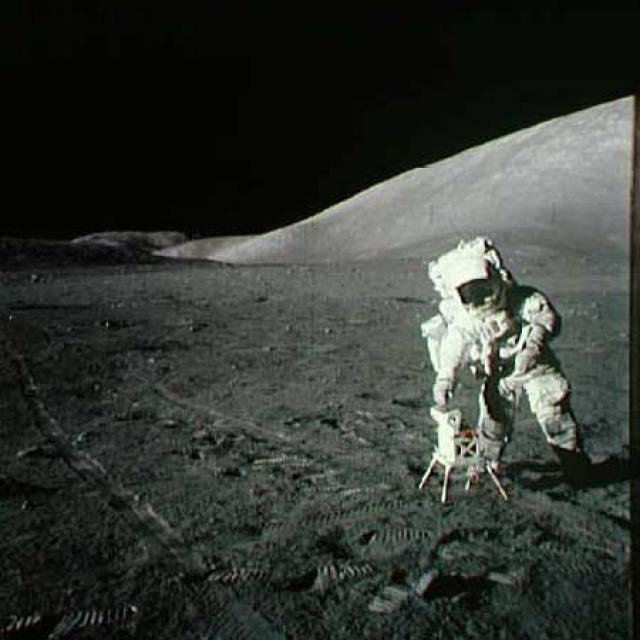artifact: (408, 401, 520, 503)
crater: (1, 295, 91, 318), (127, 336, 196, 356), (102, 314, 153, 332), (383, 292, 426, 310)
